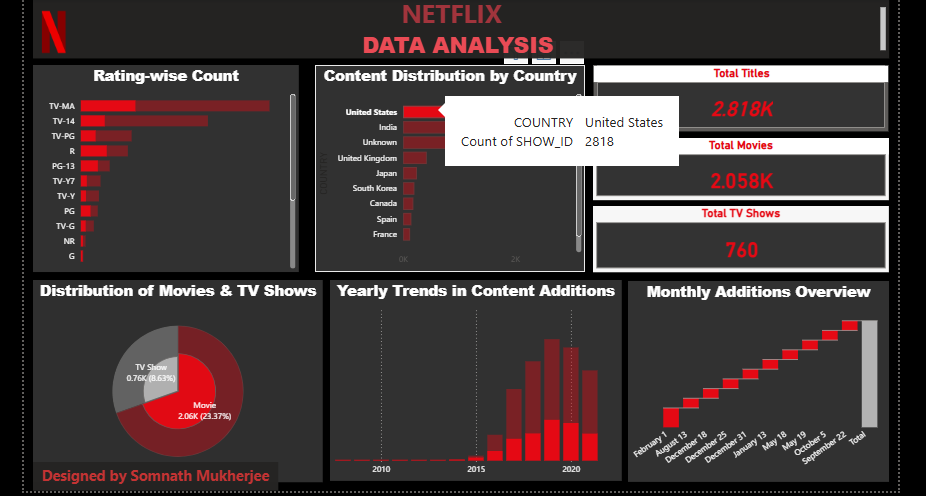

This screenshot's page, from the dashboard's own definition file:
{"tool":"powerbi","page":{"name":"Page 1","canvas":[1280,720],"ordinal":0},"visuals":[{"type":"pieChart","title":"Distribution of Movies & TV Shows","fields":{"Category":["netflix_titles.TYPE"],"Y":["CountNonNull(netflix_titles.SHOW_ID)"]},"box":[12.9,411.4,424.3,295.7],"z":0},{"type":"clusteredColumnChart","title":"Yearly Trends in Content Additions","fields":{"Y":["CountNonNull(netflix_titles.SHOW_ID)"],"Category":["netflix_titles.YEAR"]},"box":[447.1,411.4,427.1,294.3],"z":1000},{"type":"barChart","title":"Content Distribution by Country","fields":{"Category":["netflix_titles.COUNTRY"],"Y":["CountNonNull(netflix_titles.SHOW_ID)"]},"box":[425.9,96.6,395.1,302.9],"z":2000},{"type":"waterfallChart","title":"Monthly Additions Overview","fields":{"Category":["netflix_titles.MONTH"],"Y":["CountNonNull(netflix_titles.SHOW_ID)"]},"box":[883.9,412.7,382,294.1],"z":3000},{"type":"barChart","title":"Rating-wise Count","fields":{"Category":["netflix_titles.RATING"],"Y":["CountNonNull(netflix_titles.SHOW_ID)"]},"box":[13.2,96.6,389.3,302.9],"z":4000},{"type":"textbox","box":[12.9,0,1252.9,87.1],"z":5000},{"type":"image","box":[0,8.8,87.8,79],"z":6000},{"type":"cardVisual","title":"Total Titles","fields":{"Data":["CountNonNull(netflix_titles.SHOW_ID)"]},"box":[832.7,96.6,433.2,98],"z":7000},{"type":"cardVisual","title":"Total Movies","fields":{"Data":["CountNonNull(netflix_titles.TYPE)"]},"box":[832.7,203.4,433.2,90.7],"z":8000},{"type":"cardVisual","title":"Total TV Shows","fields":{"Data":["CountNonNull(netflix_titles.TYPE)"]},"box":[832.7,302.9,433.2,96.6],"z":9000},{"type":"textbox","box":[13.2,677.6,358.5,42.4],"z":10000}]}

Visuals, with their boxes in screenshot pixels (x1, y1, x2, y2):
"Distribution of Movies & TV Shows" pieChart: select_region(33, 280, 322, 481)
"Yearly Trends in Content Additions" clusteredColumnChart: select_region(328, 280, 619, 480)
"Content Distribution by Country" barChart: select_region(314, 66, 583, 272)
"Monthly Additions Overview" waterfallChart: select_region(626, 281, 885, 481)
"Rating-wise Count" barChart: select_region(33, 66, 298, 272)
textbox: select_region(33, 0, 885, 59)
image: select_region(24, 6, 84, 60)
"Total Titles" cardVisual: select_region(591, 66, 885, 132)
"Total Movies" cardVisual: select_region(591, 138, 885, 200)
"Total TV Shows" cardVisual: select_region(591, 206, 885, 272)
textbox: select_region(33, 461, 277, 490)
